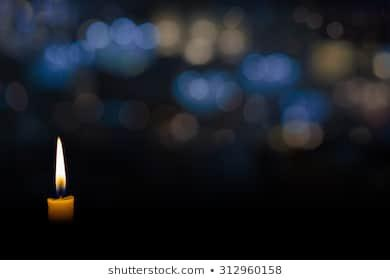fire: (50, 131, 68, 197)
